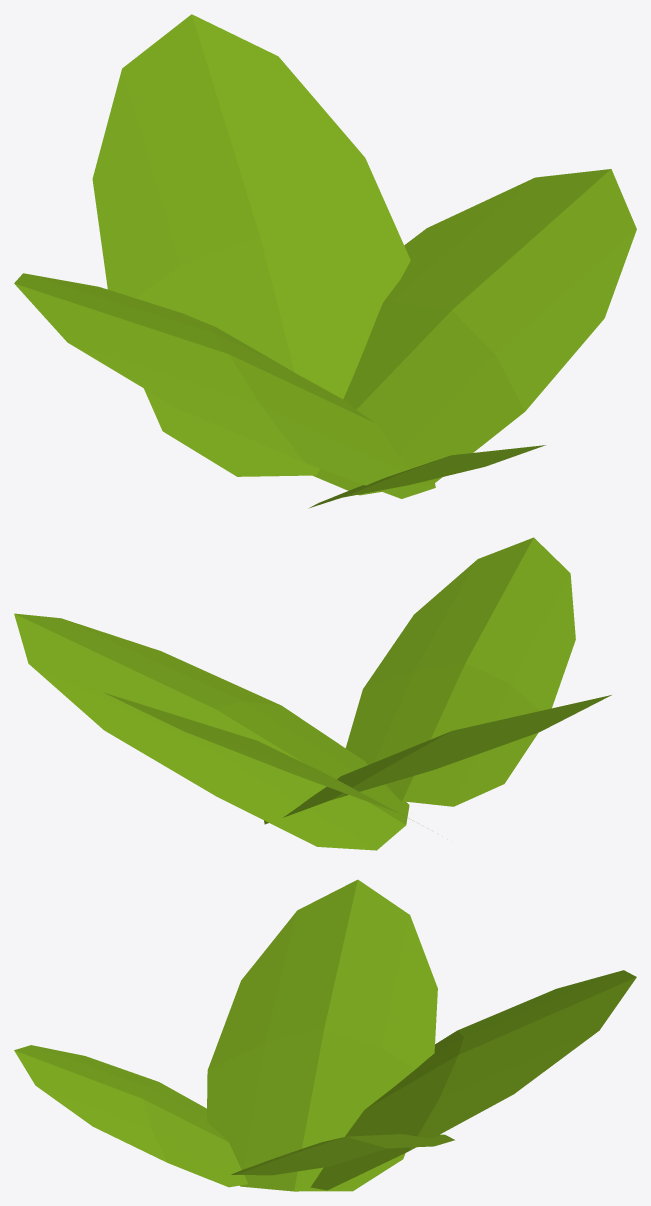
The model's file is wild_pz_grass_41.glb.
3 renders of one model, top to bottom at view 1: azimuth 30°, elevation 25°; view 2: azimuth 150°, elevation 25°; view 3: azimuth 270°, elevation 25°, orthographic. The views are drawn at different scales.
Parts seen in each view (by area): view 1: pg_grass_41; view 2: pg_grass_41; view 3: pg_grass_41.
Boxes of the visible parts, x1,y1,x2,y2 form: pg_grass_41: (14,14,636,508); pg_grass_41: (14,537,611,850); pg_grass_41: (14,879,636,1191).
Size of the model in its own units: 0.4269 by 0.1862 by 0.4875.
